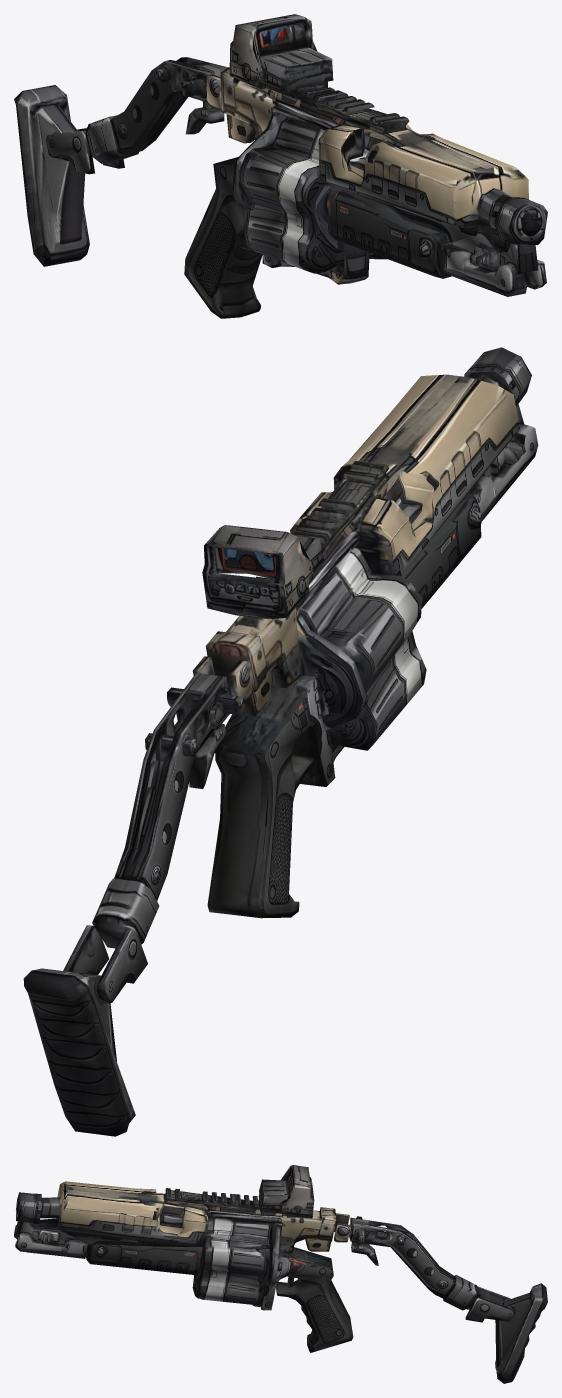
The picture shows the model from 3 angles, top to bottom: view 1: azimuth 30°, elevation 25°; view 2: azimuth 150°, elevation 25°; view 3: azimuth 270°, elevation 25°; orthographic projection. The views are drawn at different scales.
Parts seen in each view (by area): view 1: gun; view 2: gun; view 3: gun.
Part boxes in pixels (left/top/right/bottom): gun: left=14, top=14, right=547, bottom=318; gun: left=23, top=347, right=538, bottom=1136; gun: left=14, top=1165, right=547, bottom=1383.
Size of the model in its own units: 1.33 by 3.54 by 7.8.
1 material, 1 textured.
